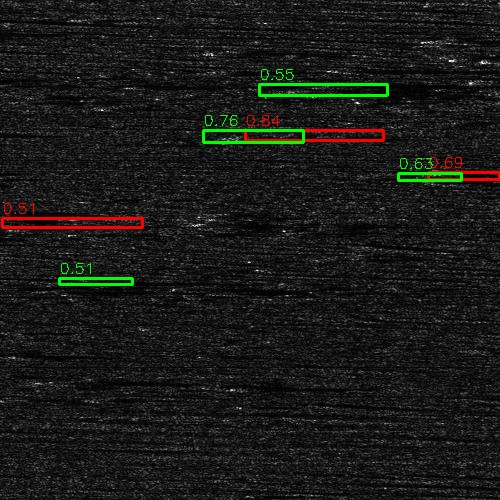rock: (45, 279, 98, 284), (467, 345, 488, 354)
shadow: (0, 221, 138, 228), (72, 279, 214, 284), (0, 215, 91, 218), (478, 345, 500, 354)
